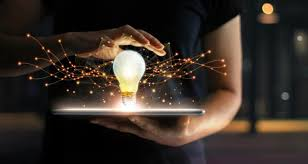bulb: (106, 44, 148, 98)
